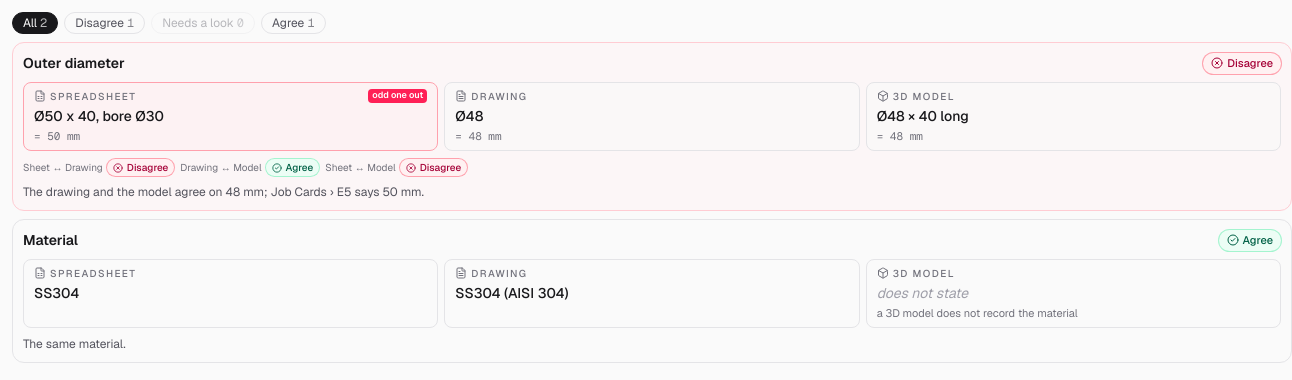
Test: three-way cross-check › filters by verdict
This screenshot has width=1292, height=380.
Click the button "Disagree 1" at (105, 23), box [64, 12, 145, 34]
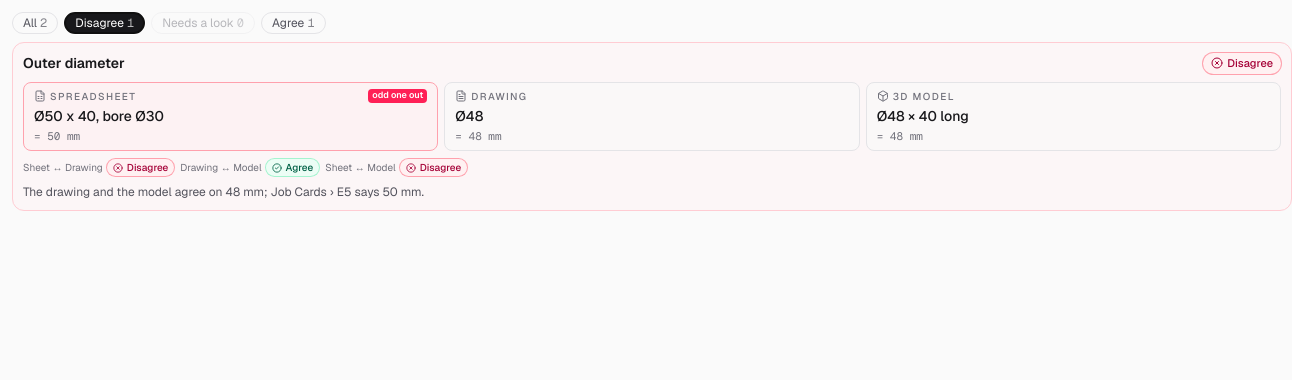
expect the text "Outer diameter" is shown: met, box [23, 53, 125, 73]
expect the text "Material" is gone: met
